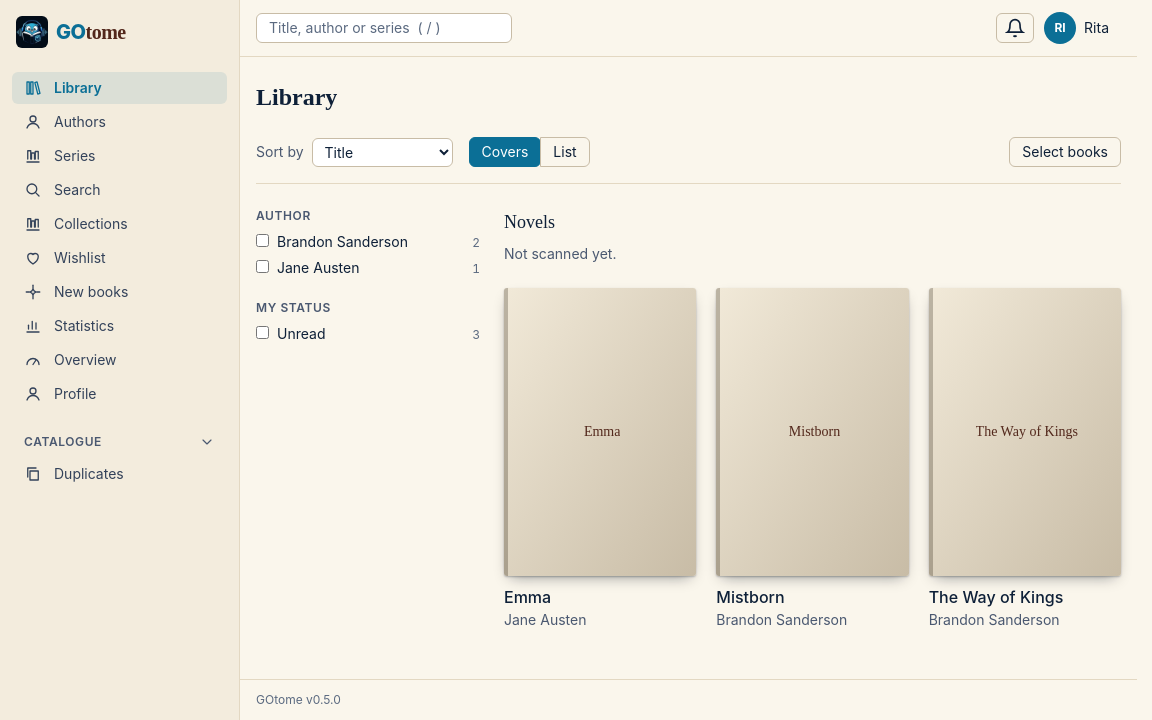
Scenario: quick search › waits for three letters, says when nothing is found, and closes on Escape
This screenshot has width=1152, height=720.
Type "em" into the dropdown named "Search books". click: (384, 28)
box: x1=256 y1=13 x2=512 y2=43
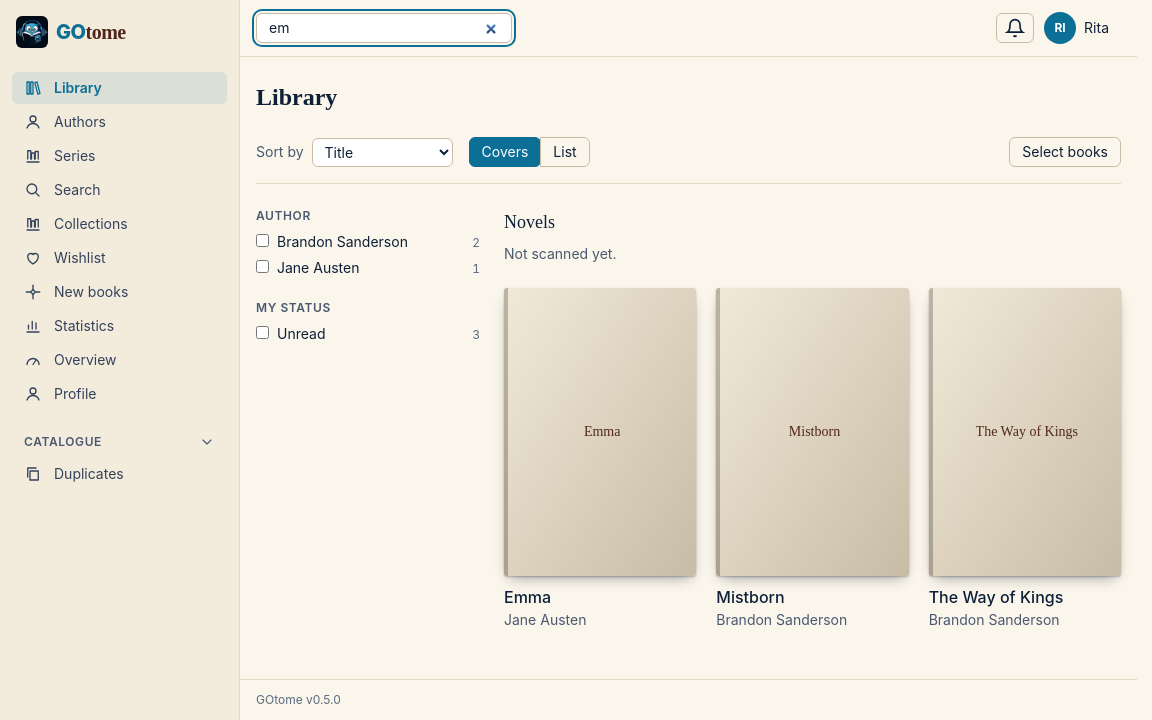
Type "ma" into the dropdown named "Search books". click: (384, 28)
box: x1=256 y1=13 x2=512 y2=43
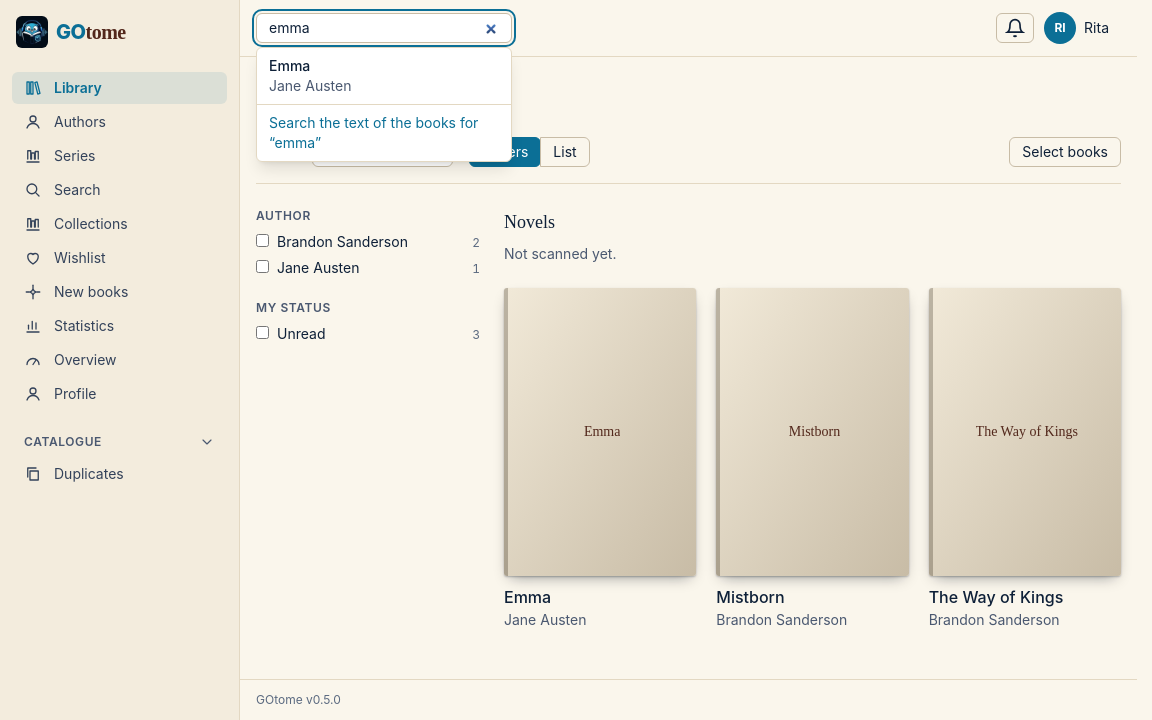
Expected: the option "Emma Jane Austen" is shown, x1=269 y1=57 x2=351 y2=94
Press Escape
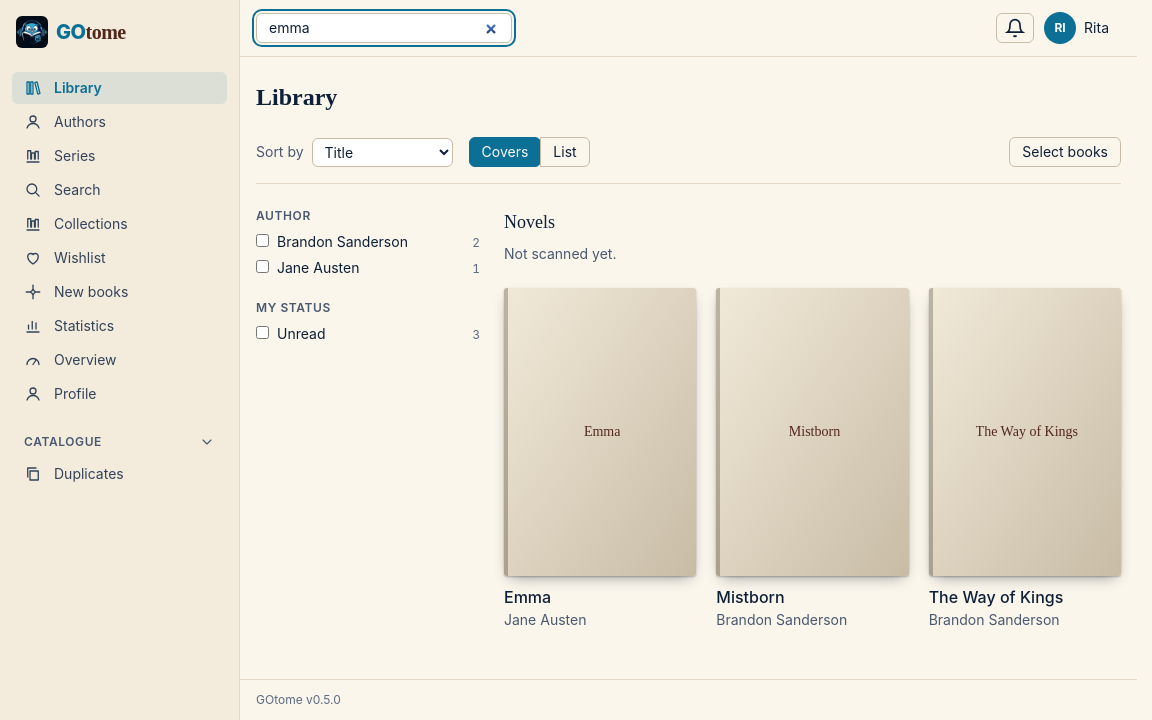
Replace the text in the dropdown named "Search books" with "qwertz". click: (384, 28)
box: x1=256 y1=13 x2=512 y2=43
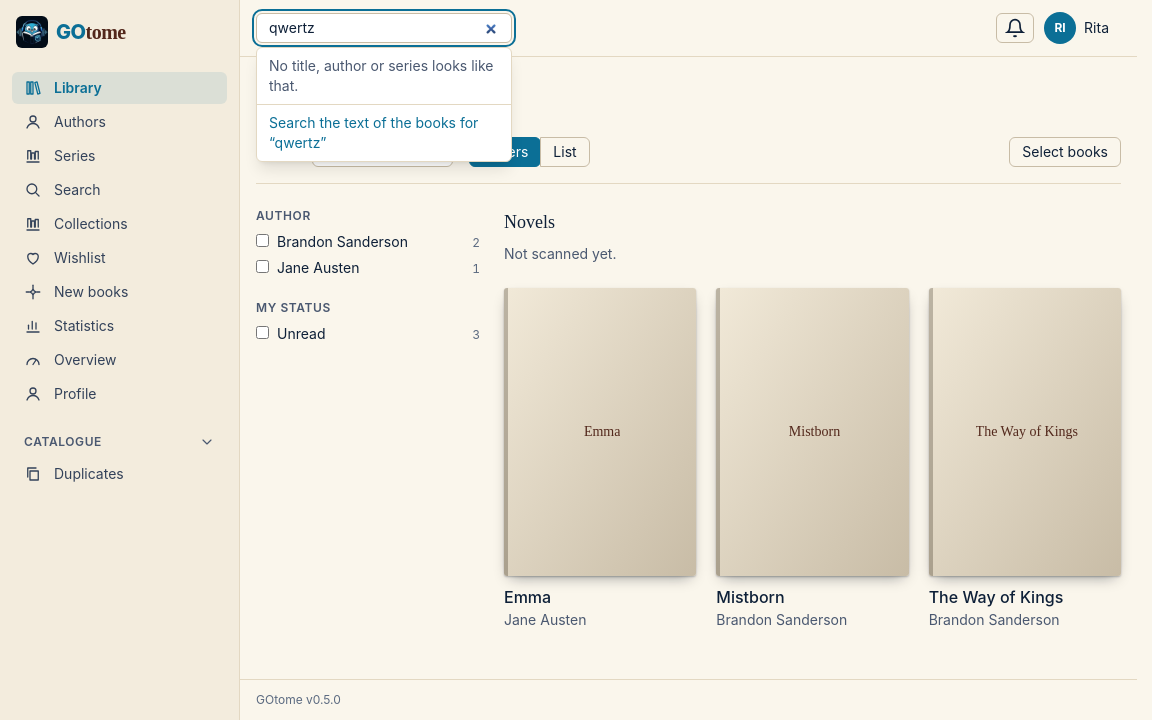
Expected: the text "No title, author or series looks like that." is shown, x1=257 y1=48 x2=511 y2=104
